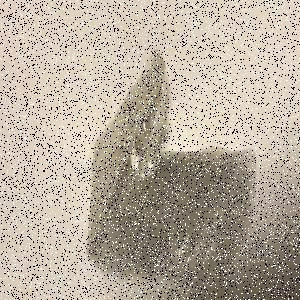Trash: (87, 49, 259, 291)
